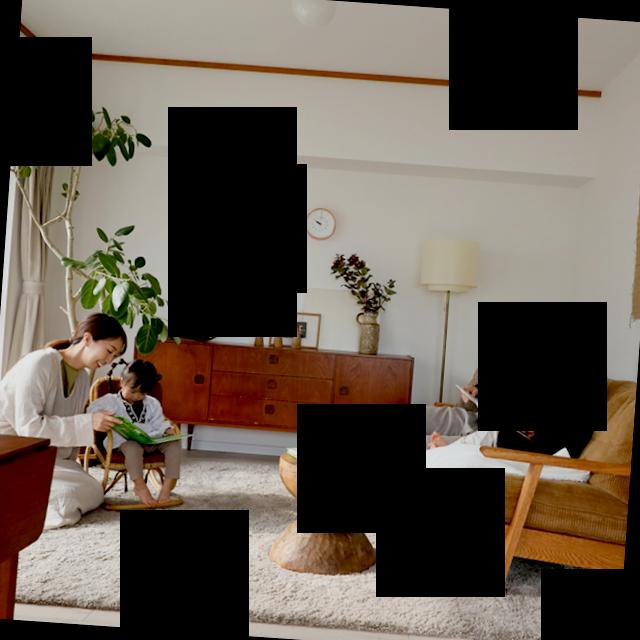vintage chair: (262, 448, 380, 582)
vintage shelf: (144, 331, 420, 441)
